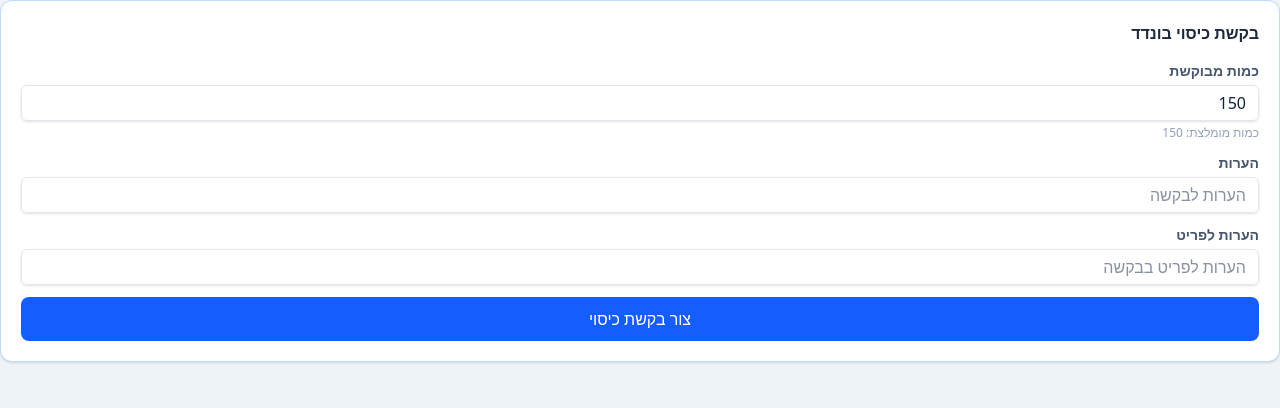
Test: BondedRequestCreateCard › shows validation message when qty is zero
Replace the text in the number field showing "150" with "0": (640, 103) left=21, top=85, right=1259, bottom=121
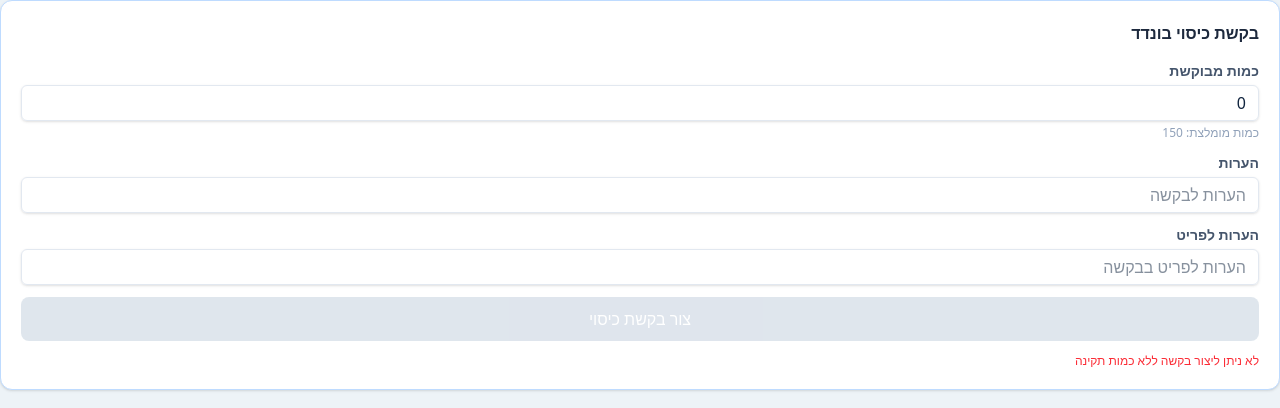
Now the text "לא ניתן ליצור בקשה ללא כמות תקינה" is shown, box left=1075, top=352, right=1259, bottom=369
